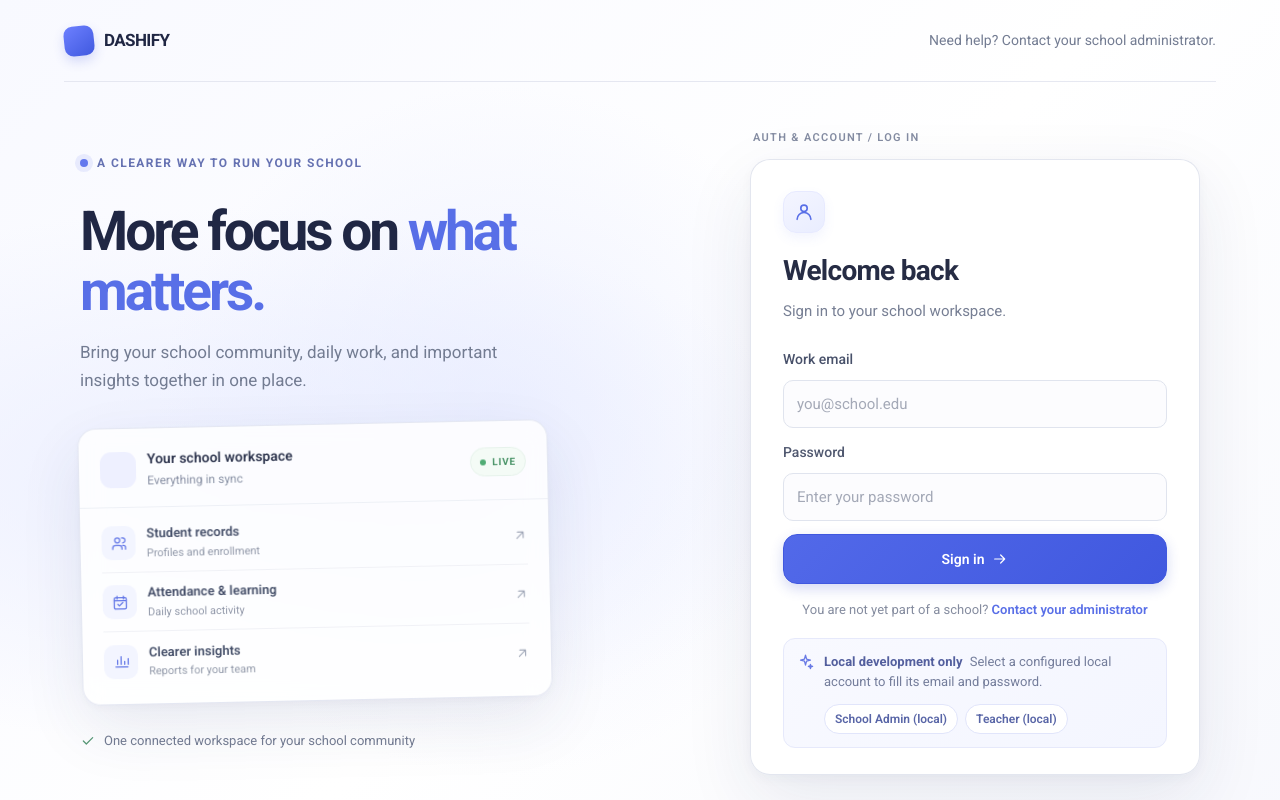
Scenario: auth session and workspace UI › fills configured local credentials when a development account is selected
Click the button "Teacher (local)".
click(1016, 719)  # box [965, 704, 1068, 734]
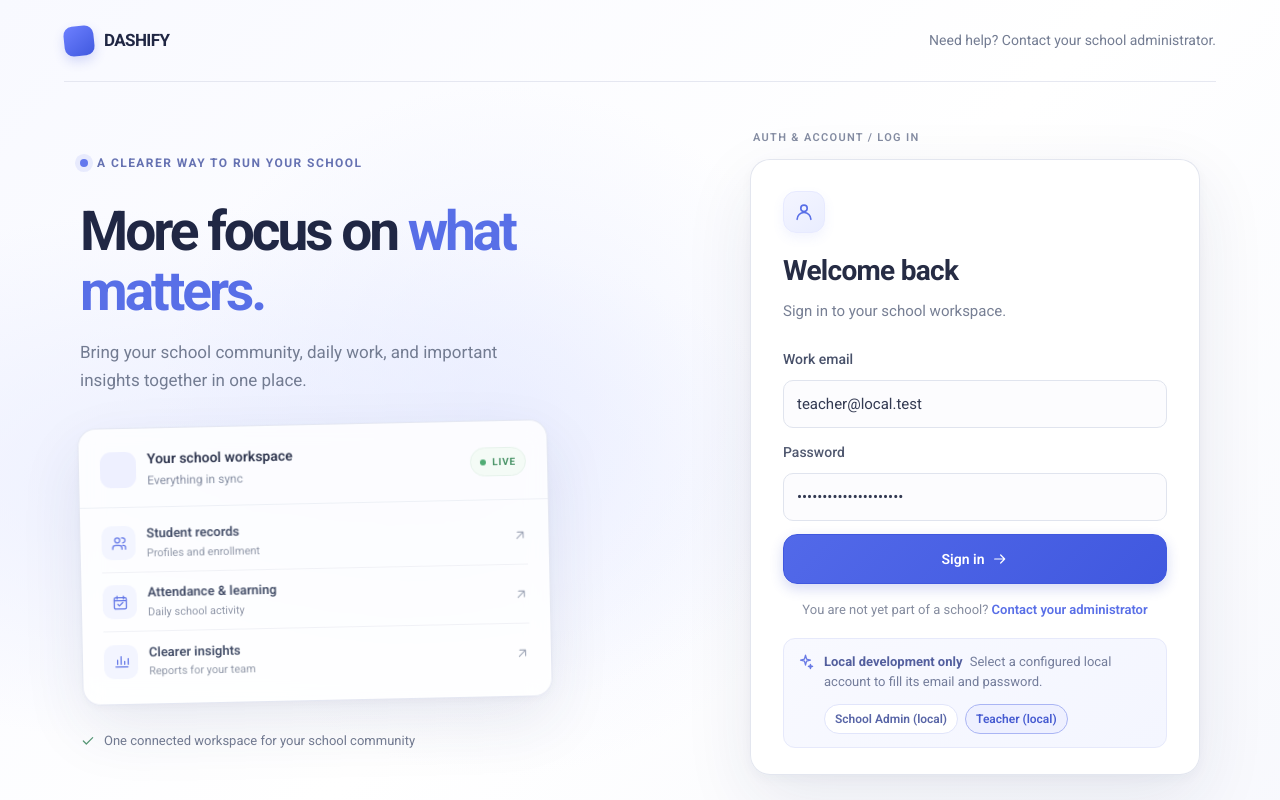
Result: the field labelled "Work email" holds "teacher@local.test" at [783, 380, 1167, 428]
Result: the password field labelled "Password" holds "teacher-only-password" at [783, 473, 1167, 521]
